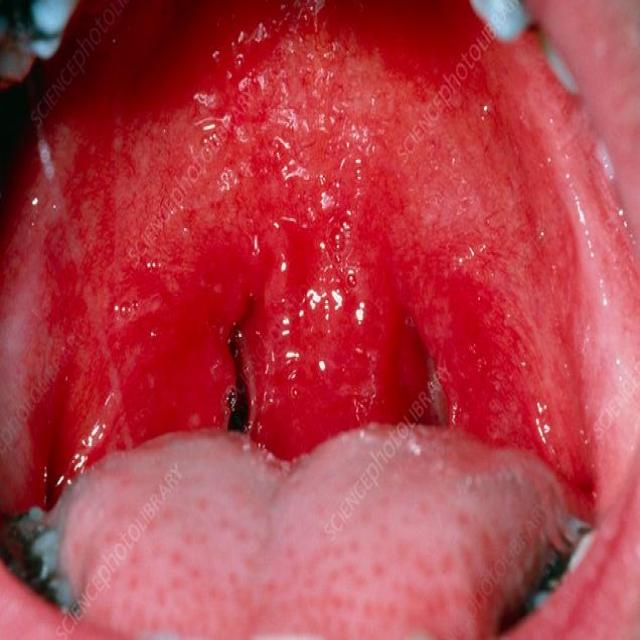Non Pharyngitis: (43, 153, 623, 432)
